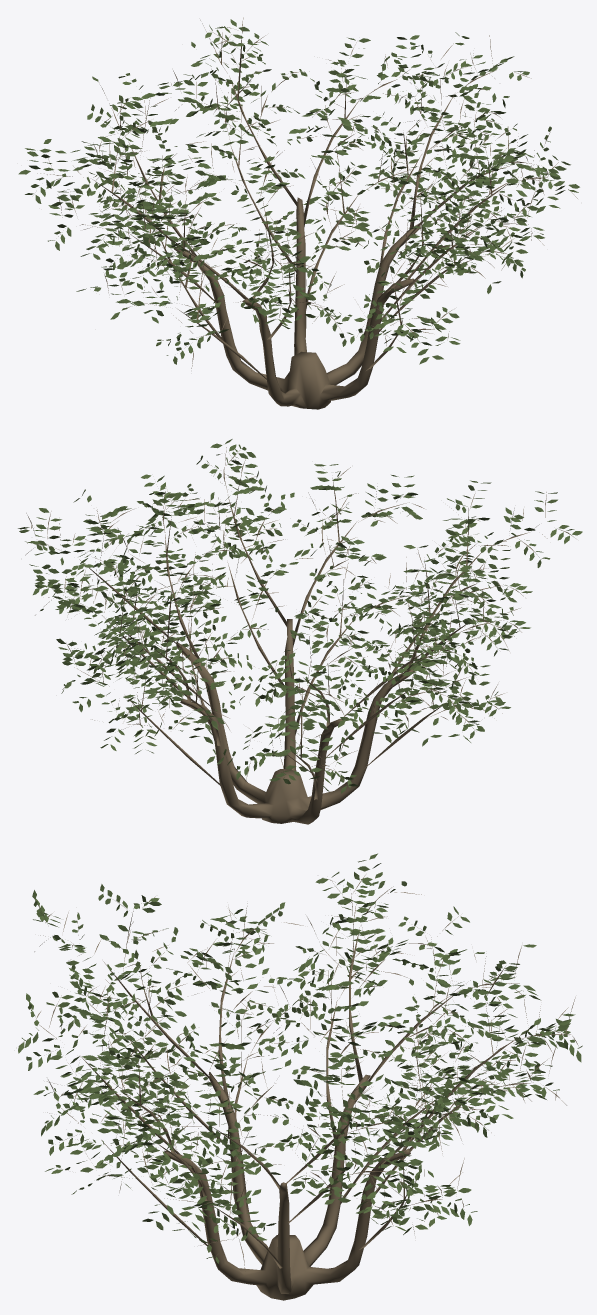
File: Lentisque_0_Niveau1.fbx
3 views of the same model, one above another, from view 1: azimuth 30°, elevation 25°; view 2: azimuth 150°, elevation 25°; view 3: azimuth 270°, elevation 25° (orthographic). The views are drawn at different scales.
Visible parts, largest first — view 1: Lentisque_0_Niveau1_Jeu; view 2: Lentisque_0_Niveau1_Jeu; view 3: Lentisque_0_Niveau1_Jeu.
Part boxes in pixels (<box>): Lentisque_0_Niveau1_Jeu: <box>18,17,579,409</box>; Lentisque_0_Niveau1_Jeu: <box>18,439,582,824</box>; Lentisque_0_Niveau1_Jeu: <box>18,853,582,1300</box>.
Size of the model in its own units: 169 by 105 by 157.
